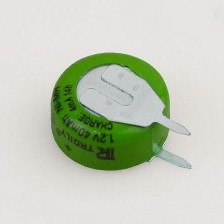battery: (45, 49, 195, 174)
